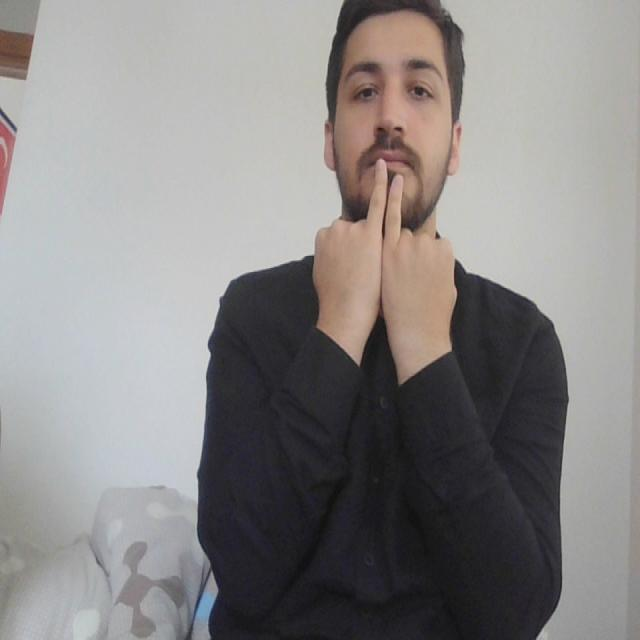Kardes: (310, 154, 462, 374)
